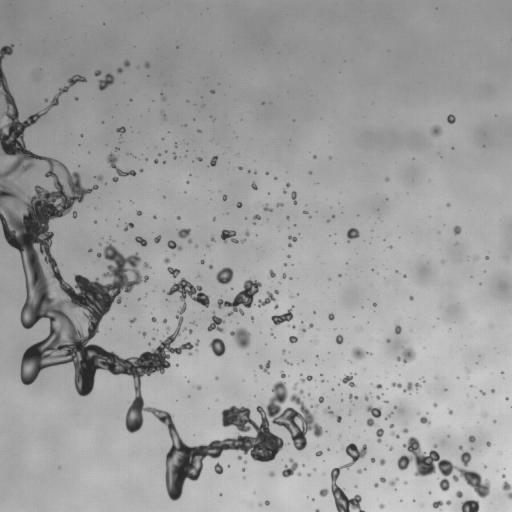droplet: (319, 443, 367, 511), (106, 153, 135, 181), (230, 328, 250, 348), (208, 311, 224, 332), (366, 405, 381, 426), (282, 458, 298, 477), (216, 267, 233, 284), (209, 338, 225, 356), (98, 73, 114, 90), (397, 348, 415, 363), (220, 229, 238, 243), (352, 347, 369, 360), (461, 499, 479, 511), (347, 228, 359, 242), (341, 375, 355, 387), (502, 481, 511, 499), (259, 361, 270, 373), (167, 267, 180, 277), (178, 228, 190, 238), (135, 236, 147, 246), (431, 125, 441, 136), (324, 406, 334, 416), (214, 463, 223, 474), (376, 428, 383, 442), (432, 500, 443, 508), (209, 156, 217, 166), (420, 416, 430, 424), (447, 114, 455, 123), (453, 225, 461, 234), (389, 478, 398, 486), (394, 324, 401, 334), (336, 334, 343, 344), (116, 126, 125, 133), (263, 204, 271, 211), (154, 235, 161, 243), (289, 336, 297, 343), (468, 435, 475, 442), (392, 382, 401, 387), (94, 70, 101, 76), (251, 182, 257, 189), (269, 270, 275, 277), (328, 313, 334, 320), (300, 326, 306, 333), (335, 415, 341, 422), (315, 450, 322, 456), (379, 458, 385, 465), (456, 490, 462, 497), (95, 175, 103, 180), (289, 236, 297, 241), (349, 394, 357, 399), (72, 211, 77, 218), (253, 214, 260, 219), (143, 263, 150, 268), (124, 60, 129, 66), (236, 202, 242, 207), (292, 383, 297, 389), (375, 384, 382, 388), (356, 469, 363, 473), (117, 68, 122, 73), (222, 195, 227, 200), (164, 258, 169, 263), (151, 317, 156, 322), (130, 318, 135, 323), (402, 428, 407, 433), (269, 471, 274, 476), (380, 477, 385, 482), (446, 500, 451, 505), (276, 202, 282, 206), (245, 230, 249, 236), (145, 63, 149, 68), (197, 157, 202, 161), (486, 441, 490, 446), (265, 500, 269, 505), (379, 504, 384, 508), (154, 159, 158, 163), (137, 211, 141, 215), (409, 296, 413, 300), (309, 323, 313, 327), (480, 390, 484, 394), (364, 396, 368, 400), (433, 403, 437, 407), (448, 410, 452, 414), (370, 458, 374, 462), (374, 483, 378, 487), (191, 321, 196, 324), (385, 178, 389, 181), (303, 210, 307, 213), (211, 237, 214, 241), (188, 239, 191, 243), (241, 239, 245, 242), (288, 243, 291, 247), (200, 260, 204, 263), (283, 263, 287, 266), (282, 274, 285, 278), (274, 305, 278, 308), (251, 316, 254, 320), (163, 319, 166, 323), (166, 327, 169, 331), (143, 332, 146, 336), (384, 400, 388, 403), (390, 424, 393, 428), (389, 446, 392, 450), (238, 455, 241, 459), (297, 472, 301, 475), (211, 90, 214, 93), (197, 129, 200, 132), (140, 169, 143, 172), (286, 183, 289, 186), (446, 203, 449, 206), (153, 215, 156, 218), (209, 265, 212, 268), (373, 303, 376, 306), (292, 325, 295, 328), (282, 350, 285, 353), (466, 369, 469, 372), (491, 389, 494, 392), (376, 396, 379, 399), (502, 474, 505, 477), (315, 509, 319, 511), (75, 97, 77, 100), (158, 153, 160, 156), (239, 166, 241, 169), (309, 171, 311, 174), (177, 216, 179, 219), (389, 246, 392, 248), (486, 256, 488, 259), (403, 274, 405, 277), (387, 339, 389, 342), (189, 352, 191, 355), (198, 386, 200, 389), (493, 420, 496, 422), (404, 481, 406, 484), (45, 99, 47, 101), (115, 148, 117, 150), (266, 172, 268, 174), (283, 190, 285, 192), (94, 220, 96, 222), (89, 249, 91, 251), (287, 255, 289, 257), (197, 275, 199, 277), (321, 380, 323, 382), (394, 406, 396, 408), (327, 448, 329, 450), (242, 468, 244, 470), (308, 473, 310, 475)
ligament: (0, 48, 320, 500), (397, 436, 490, 498), (217, 279, 261, 315), (271, 306, 293, 326), (258, 289, 278, 306), (403, 382, 420, 392), (167, 240, 181, 250), (314, 396, 324, 407), (300, 375, 313, 382), (124, 222, 133, 230), (291, 191, 296, 204), (385, 412, 392, 419), (391, 432, 399, 438), (285, 360, 291, 365), (161, 94, 165, 99), (173, 154, 176, 158)
